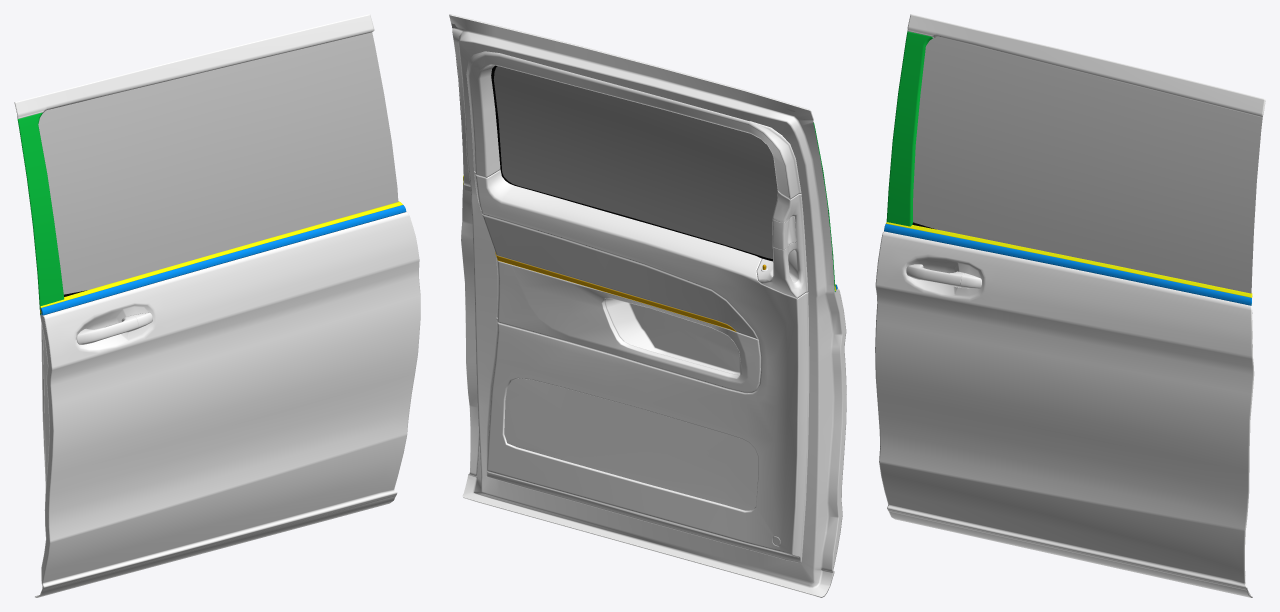
File: Door_b_L_socket_door_rl.glb
3 renders of one model, left to right at view 1: azimuth 30°, elevation 25°; view 2: azimuth 150°, elevation 25°; view 3: azimuth 330°, elevation 25°, orthographic. The views are drawn at different scales.
Parts seen in each view (by area): view 1: Paint_door_b_L001; view 2: Paint_door_b_L001; view 3: Paint_door_b_L001.
Boxes of the visible parts, <box> form: Paint_door_b_L001: <box>14,14,420,597</box>; Paint_door_b_L001: <box>449,14,846,597</box>; Paint_door_b_L001: <box>875,14,1265,597</box>.
Bounding box in the file's own units: 1.22 × 1.54 × 0.2433.
